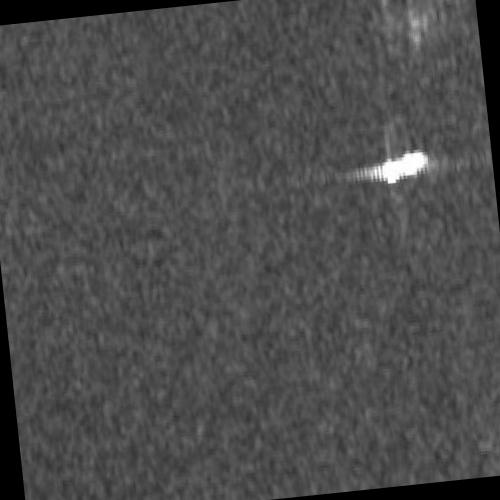ship: (372, 147, 428, 183)
